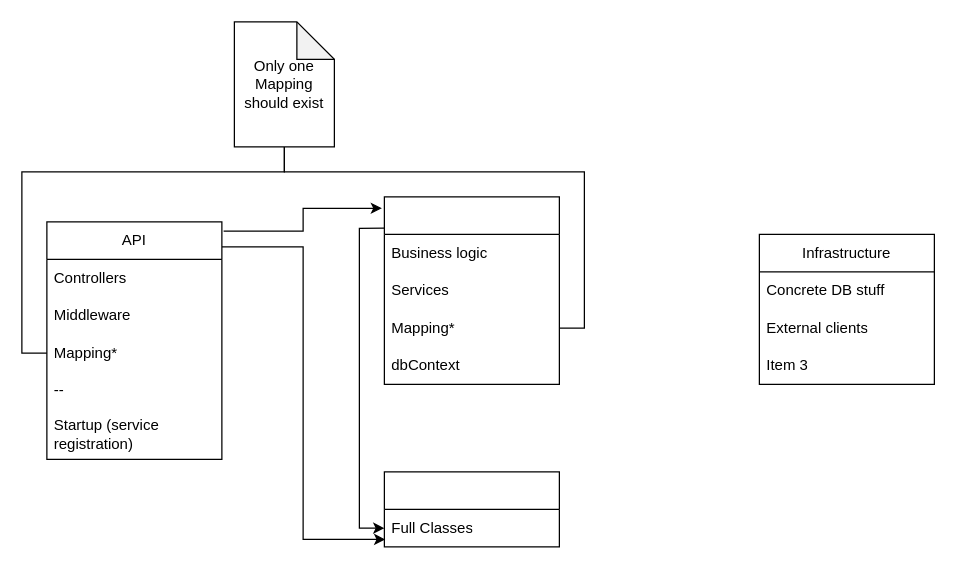
Image size: 956x571. Some labels were removed from this diagram. Here are the shapes that lost their labels. From the top down, the box of each, then its label:
(383, 196, 559, 384): Application
(383, 471, 559, 547): Domain
